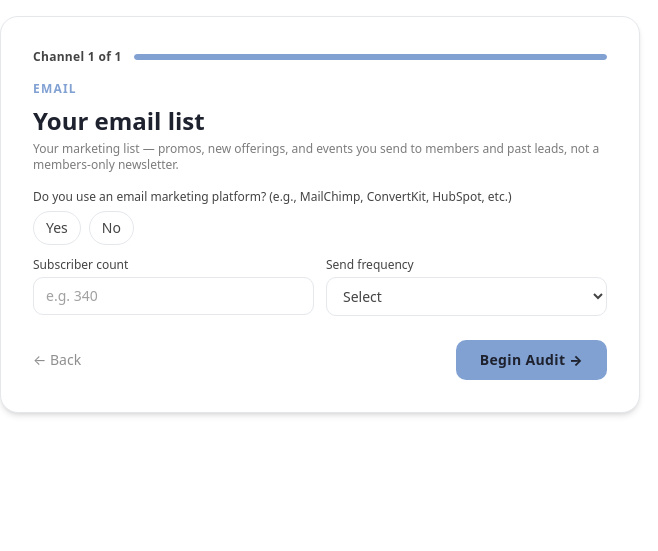
Test: Channel Details email gating UI › shows the "Other" free-text input when platform is Other
This screenshot has width=658, height=551.
Click the button "Yes". click: (57, 228)
box: [33, 211, 81, 245]
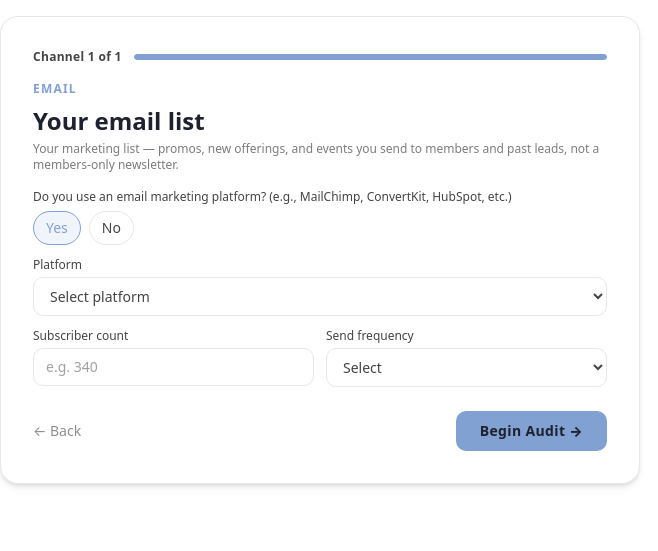
Select "Other" in the 1st dropdown "Select platform". click: (320, 296)
box: [33, 277, 607, 316]
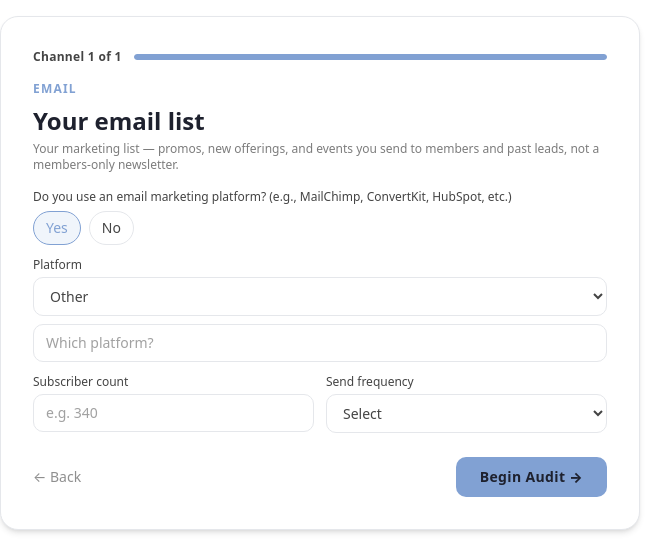
Expected: the field with placeholder "Which platform?" is shown, [33, 324, 607, 362]
